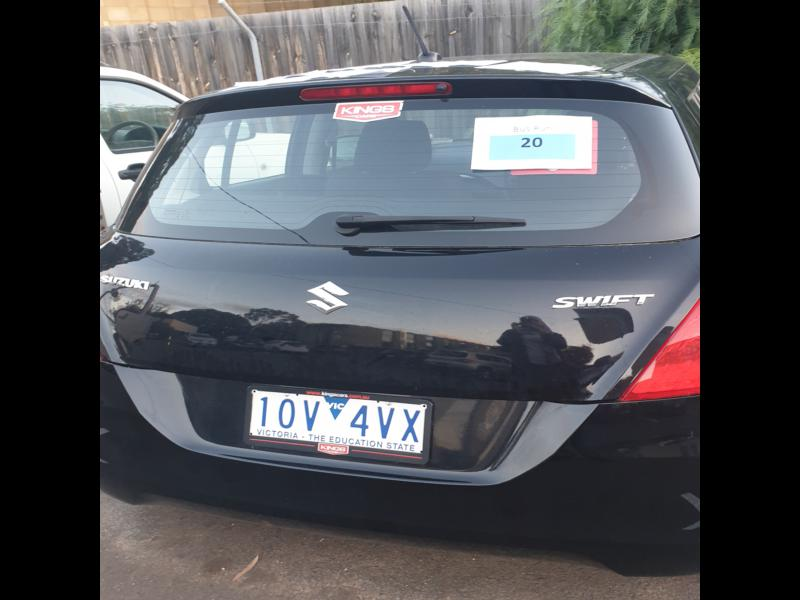BusRun: (486, 133, 576, 159)
PlateNo: (251, 389, 426, 454)
